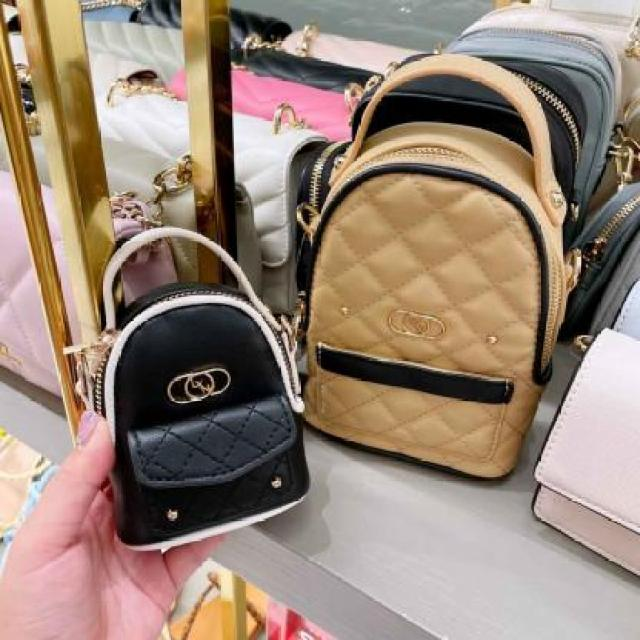Bag: (258, 23, 592, 535), (65, 193, 337, 582)
